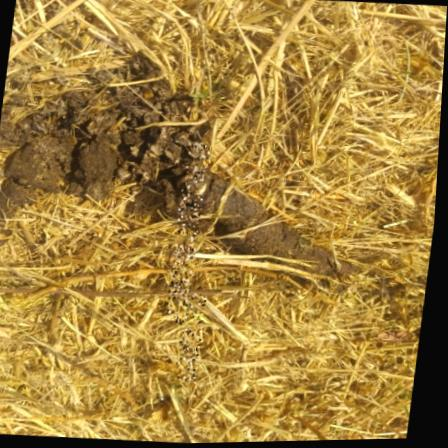dog-poop: (151, 176, 365, 297), (63, 87, 198, 197)
